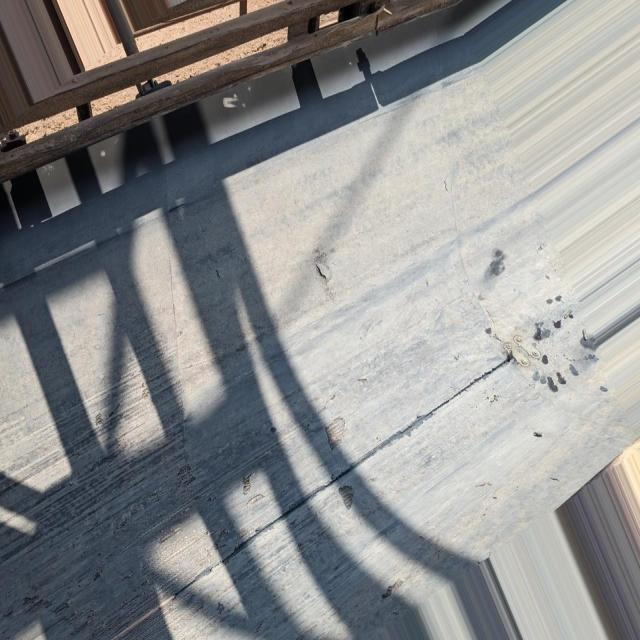Tear: (163, 350, 516, 616), (317, 411, 347, 460), (311, 258, 330, 283), (214, 265, 225, 283)
